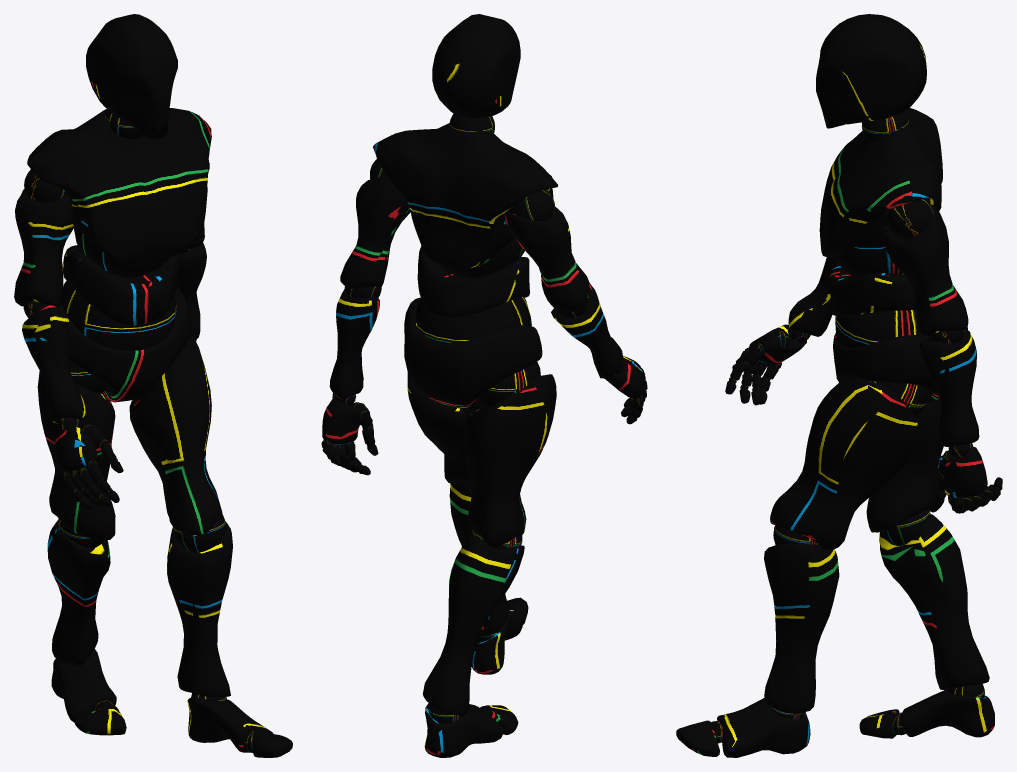
File: y-bot-origin_000016.obj
The picture shows the model from 3 angles, left to right: view 1: azimuth 30°, elevation 25°; view 2: azimuth 150°, elevation 25°; view 3: azimuth 270°, elevation 25°; orthographic projection. The views are drawn at different scales.
Visible parts, largest first — view 1: Alpha_Surface_Alpha_SurfaceMesh, Alpha_Joints_Alpha_JointsMesh; view 2: Alpha_Surface_Alpha_SurfaceMesh, Alpha_Joints_Alpha_JointsMesh; view 3: Alpha_Surface_Alpha_SurfaceMesh, Alpha_Joints_Alpha_JointsMesh.
Part boxes in pixels (<box>): Alpha_Surface_Alpha_SurfaceMesh: <box>14,14,292,757</box>; Alpha_Joints_Alpha_JointsMesh: <box>23,109,258,752</box>; Alpha_Surface_Alpha_SurfaceMesh: <box>322,14,647,757</box>; Alpha_Joints_Alpha_JointsMesh: <box>321,113,646,723</box>; Alpha_Surface_Alpha_SurfaceMesh: <box>676,14,1002,757</box>; Alpha_Joints_Alpha_JointsMesh: <box>711,111,1000,743</box>.
Size of the model in its own units: 0.5943 by 1.78 by 0.7255.
